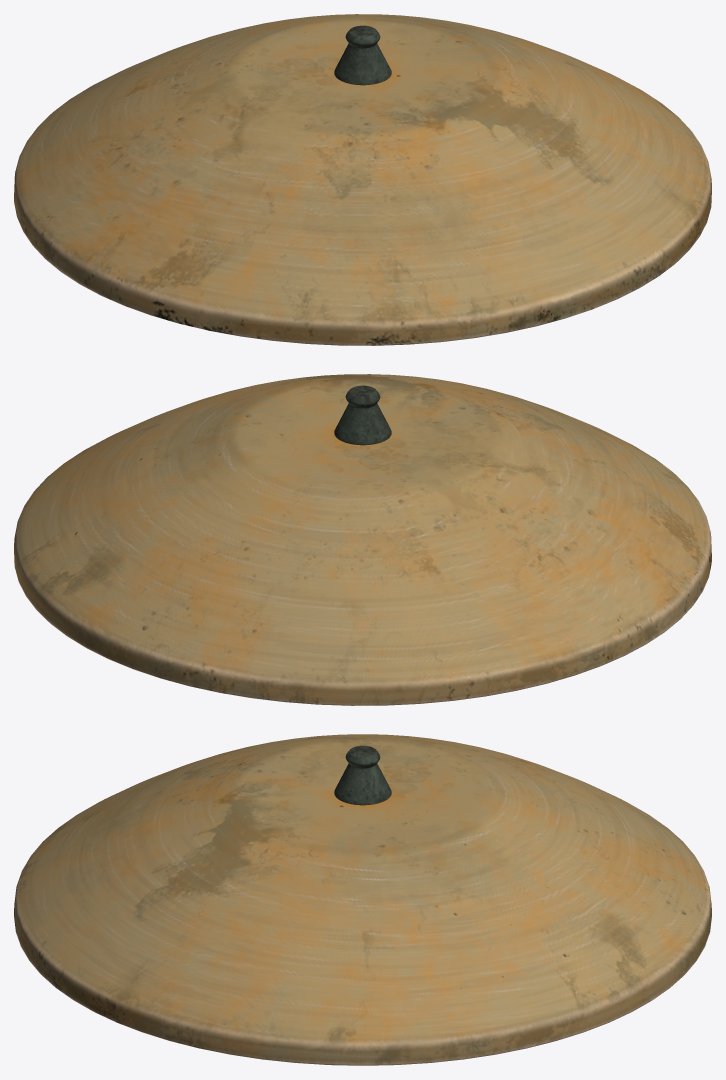
The model's file is SM_RiceBowl24_T.fbx.
3 renders of one model, top to bottom at view 1: azimuth 30°, elevation 25°; view 2: azimuth 150°, elevation 25°; view 3: azimuth 270°, elevation 25°, orthographic.
Parts seen in each view (by area): view 1: SM_RiceBowl24_T; view 2: SM_RiceBowl24_T; view 3: SM_RiceBowl24_T.
Boxes of the visible parts, x1,y1,x2,y2 form: SM_RiceBowl24_T: (14, 14, 711, 345); SM_RiceBowl24_T: (14, 374, 711, 705); SM_RiceBowl24_T: (14, 734, 711, 1065).
Size of the model in its own units: 14.8 by 3.93 by 14.8.
Materials: 1 (1 with a texture image).
